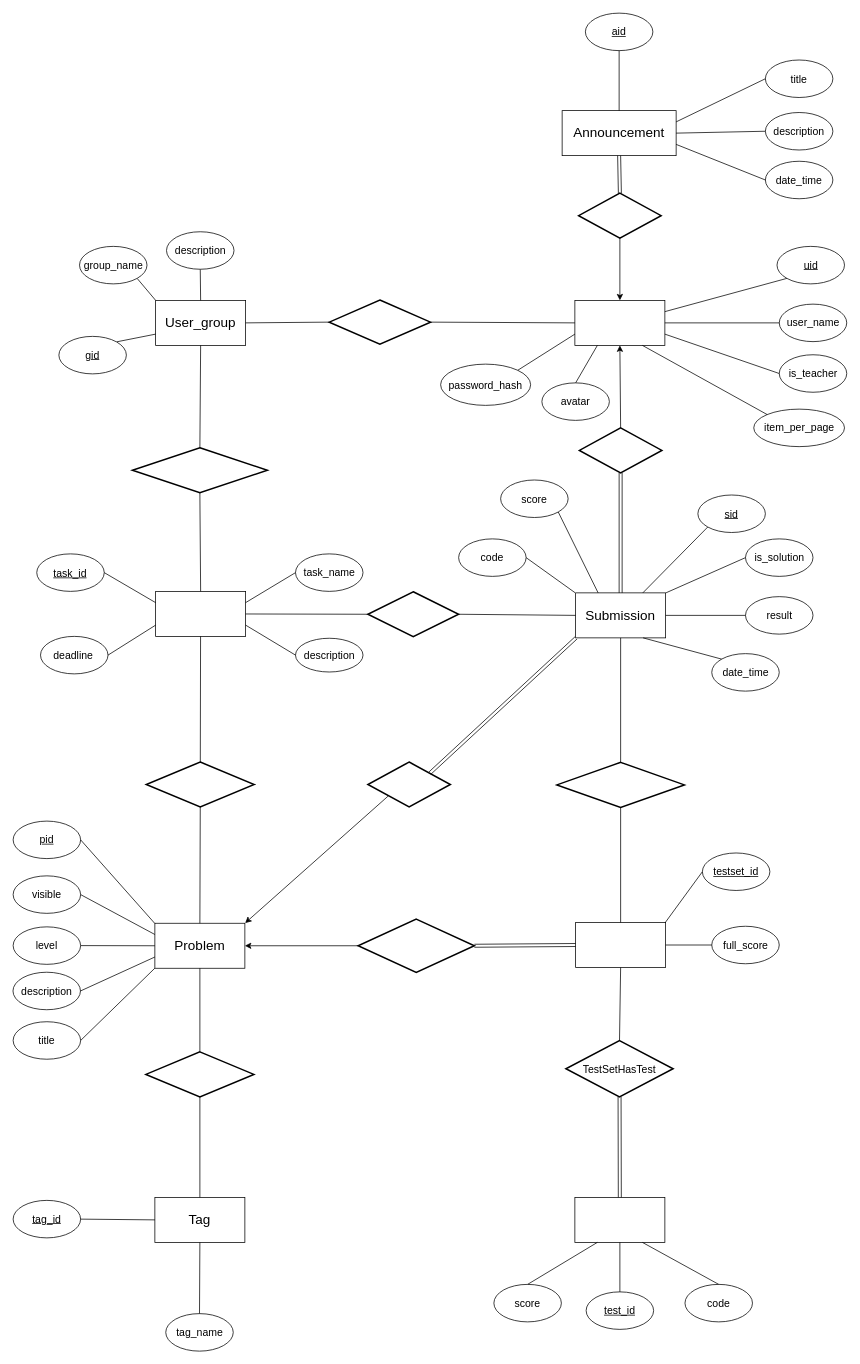
This 860x1364 diagram has some shape labels left out. The box of each missing label's shape, as (x1, y1, x2, y2) in pixels:
ProblemInTask: (145, 761, 255, 807)
ProHasTestSet: (357, 918, 475, 973)
SubInTask: (367, 591, 459, 637)
Submit: (578, 427, 662, 473)
SubRelatePro: (367, 761, 451, 807)
TagOfProblem: (145, 1051, 254, 1097)
Task: (155, 591, 246, 636)
TaskForUserGroup: (131, 447, 268, 493)
Test: (574, 1197, 665, 1242)
Testset: (575, 922, 666, 968)
TestsetCheckSub: (556, 761, 685, 808)
User: (574, 300, 665, 345)
UserInGroup: (328, 299, 431, 345)
Write: (578, 192, 662, 238)
